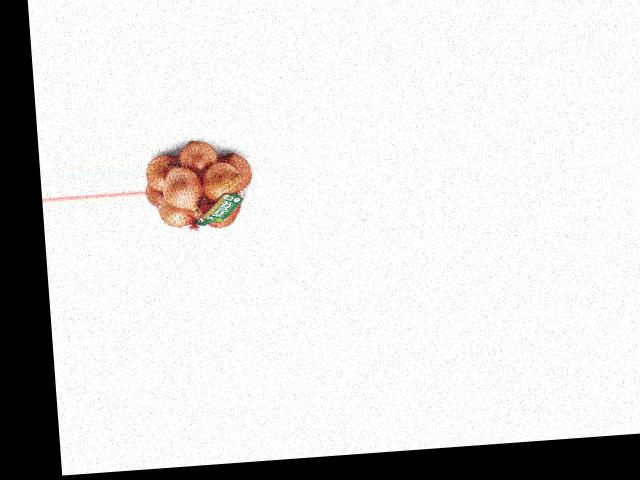onion: (216, 151, 255, 188)
